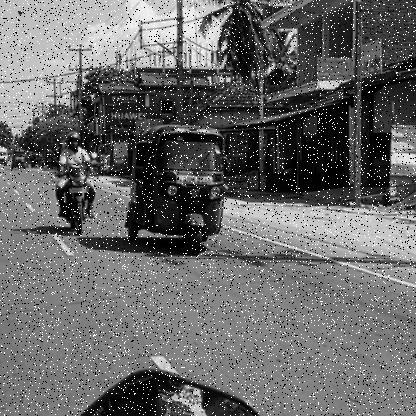motorcycle: (53, 168, 101, 238)
